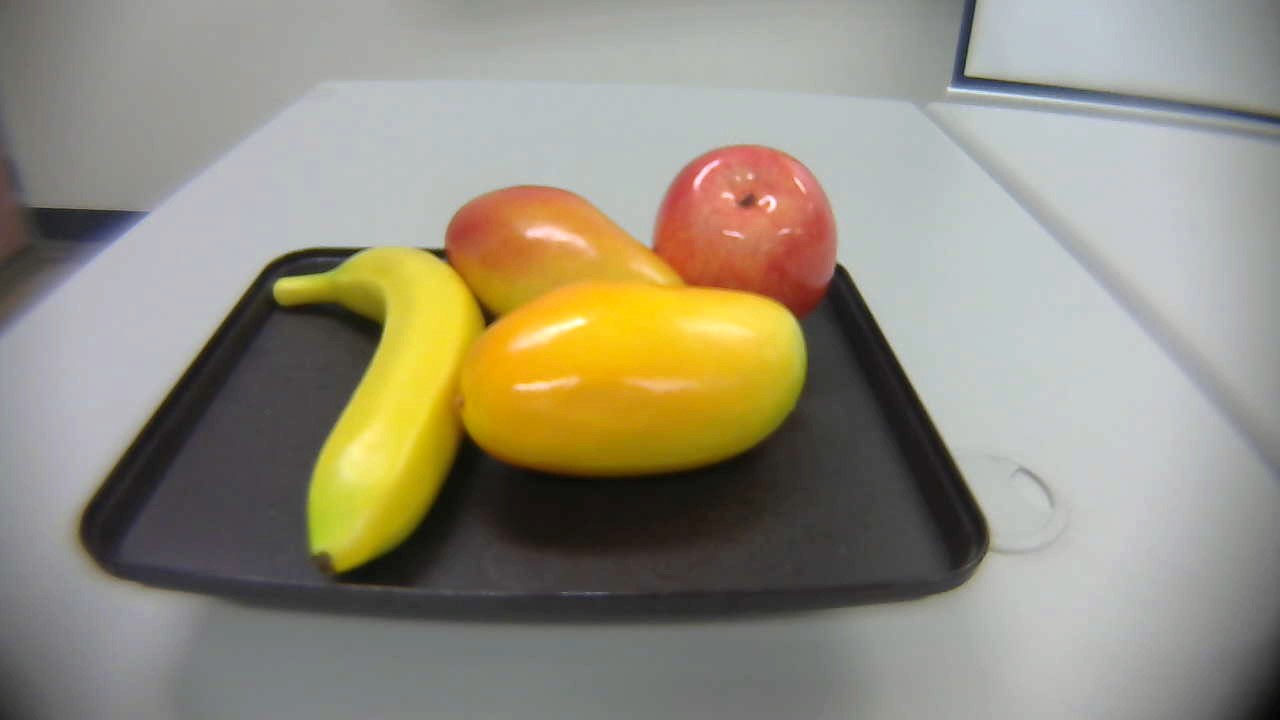banana: (268, 243, 488, 576)
red apple: (640, 138, 838, 324)
red mango: (437, 179, 687, 331)
yellow mango: (448, 266, 815, 481)
